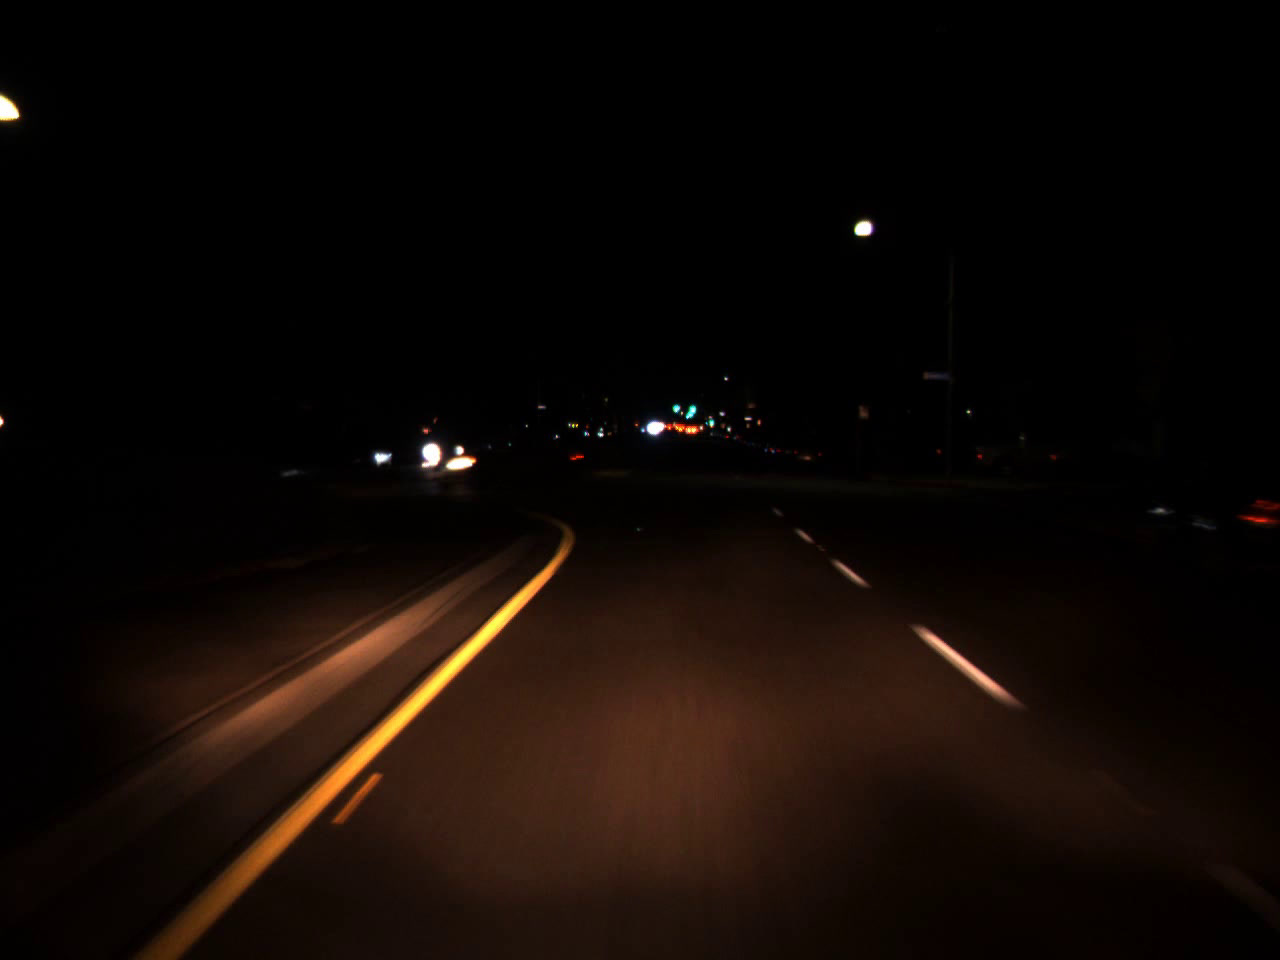go: (684, 394, 698, 418), (672, 400, 679, 412), (708, 414, 715, 426)
